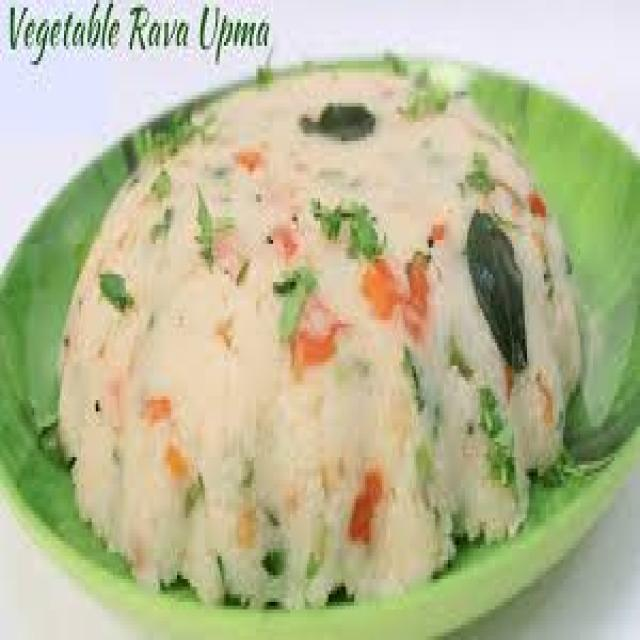SAMOSA: (60, 65, 580, 606), (58, 72, 578, 602)
UPMA: (222, 0, 638, 145)
